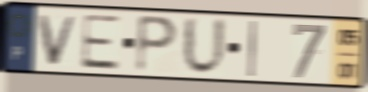7: (290, 22, 328, 80)
E: (78, 12, 122, 72)
I: (246, 19, 259, 80)
P: (133, 12, 181, 76)
U: (181, 14, 228, 79)
V: (36, 13, 81, 68)
